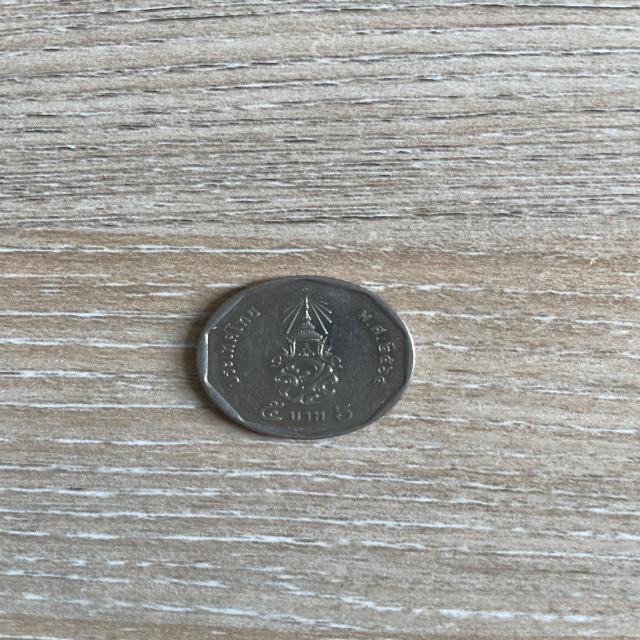5 Bath: (184, 268, 424, 447)
